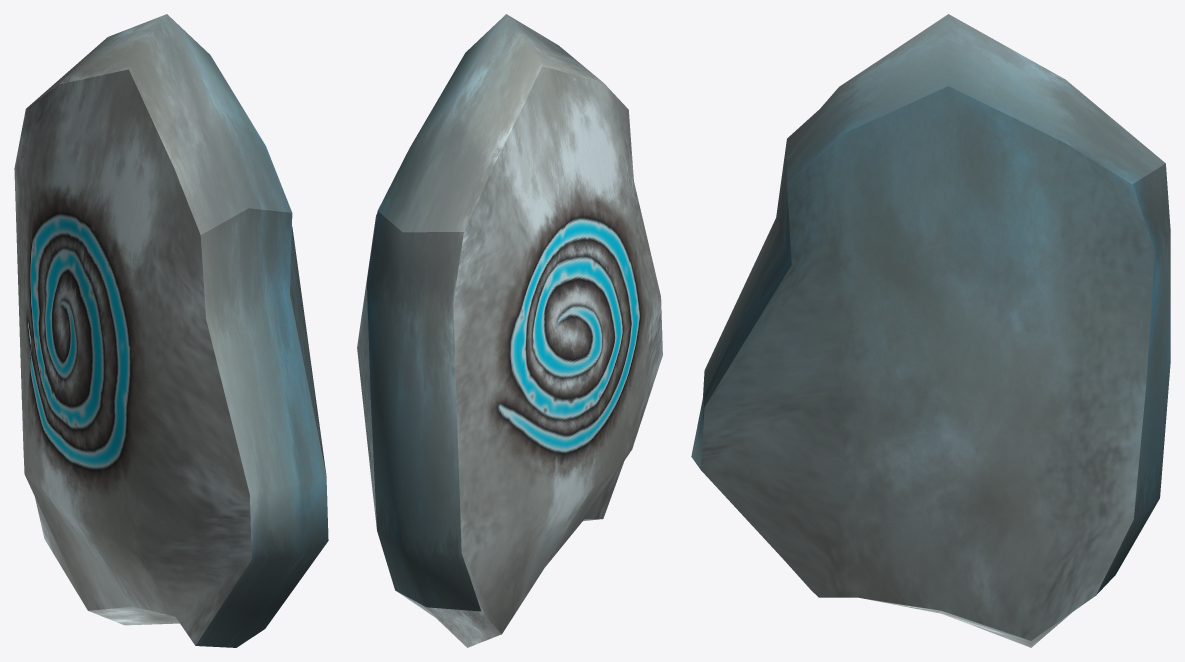
Rendered from Logio_Rune_Stone.fbx.
3 renders of one model, left to right at view 1: azimuth 30°, elevation 25°; view 2: azimuth 150°, elevation 25°; view 3: azimuth 270°, elevation 25°, orthographic. The views are drawn at different scales.
Visible parts, largest first — view 1: pCube1; view 2: pCube1; view 3: pCube1.
Boxes of the visible parts, x1,y1,x2,y2 form: pCube1: (14,14,328,647); pCube1: (357,14,662,647); pCube1: (691,14,1170,647).
Bounding box in the file's own units: 1.84 × 5.57 × 3.82.
Materials: 1 (1 with a texture image).
